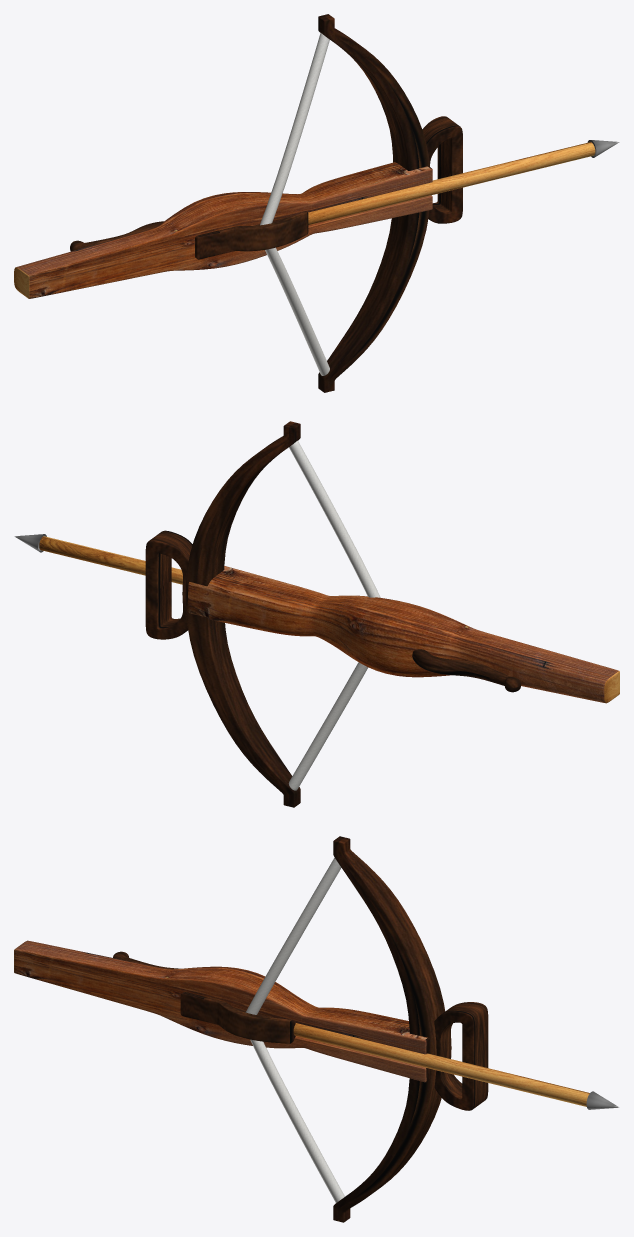
Rendered from bow.FBX.
3 renders of one model, top to bottom at view 1: azimuth 30°, elevation 25°; view 2: azimuth 150°, elevation 25°; view 3: azimuth 330°, elevation 25°, orthographic.
Parts seen in each view (by area): view 1: 21526_Crossbow_v1; view 2: 21526_Crossbow_v1; view 3: 21526_Crossbow_v1.
Boxes of the visible parts, bbox=[...] form: 21526_Crossbow_v1: bbox=[14, 14, 619, 392]; 21526_Crossbow_v1: bbox=[14, 421, 619, 807]; 21526_Crossbow_v1: bbox=[14, 836, 619, 1222].
Size of the model in its own units: 34.23 by 20.53 by 4.19.
